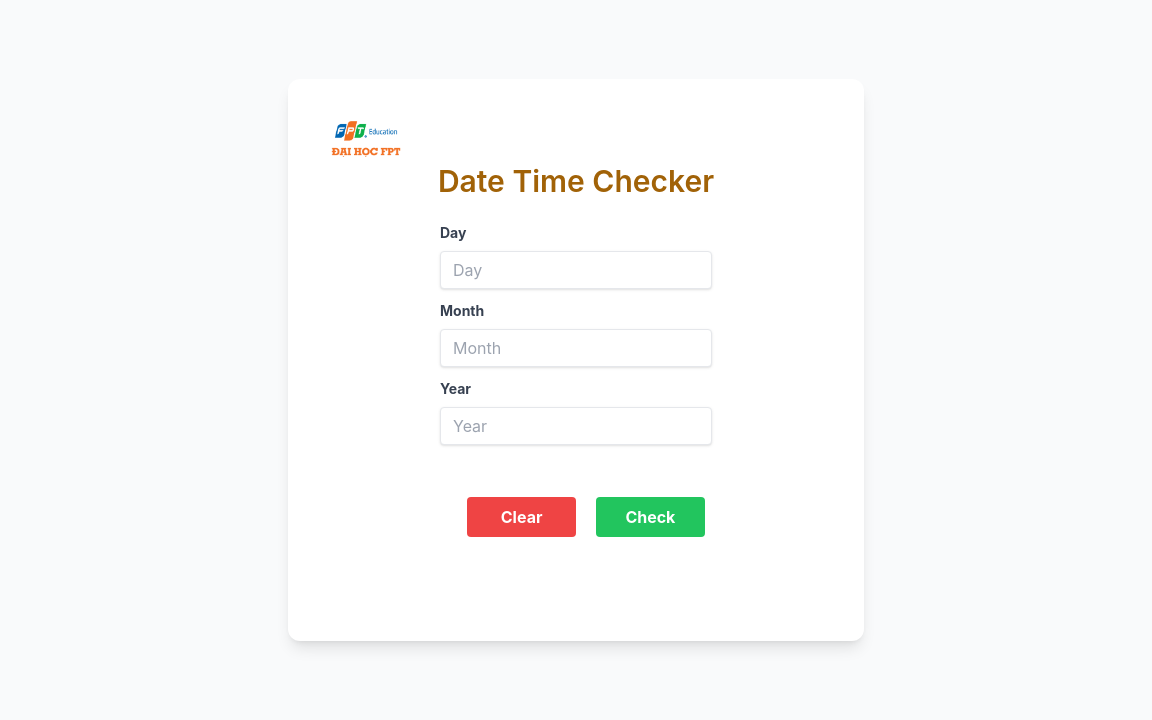
Test: Check function: › should show dialog: 29/2/2021 is NOT a valid date
Type "29" into the field with placeholder "Day" at [576, 270], box left=440, top=251, right=712, bottom=289
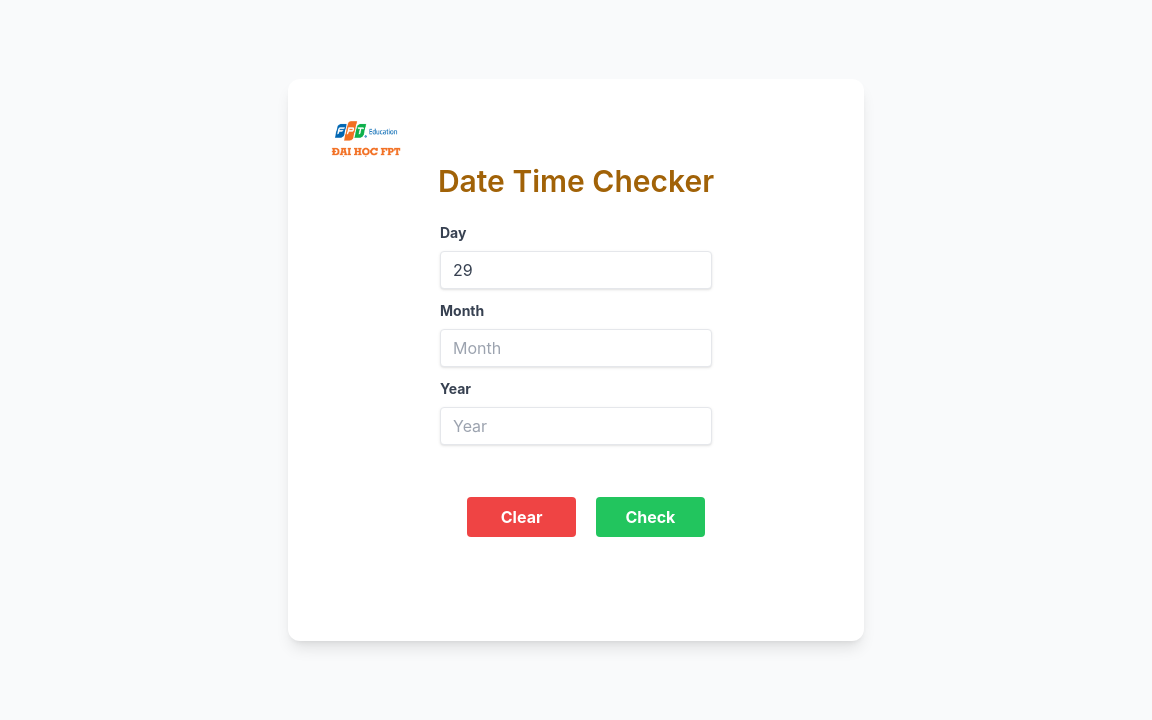
Type "2" into the field with placeholder "Month" at [576, 348], box left=440, top=329, right=712, bottom=367
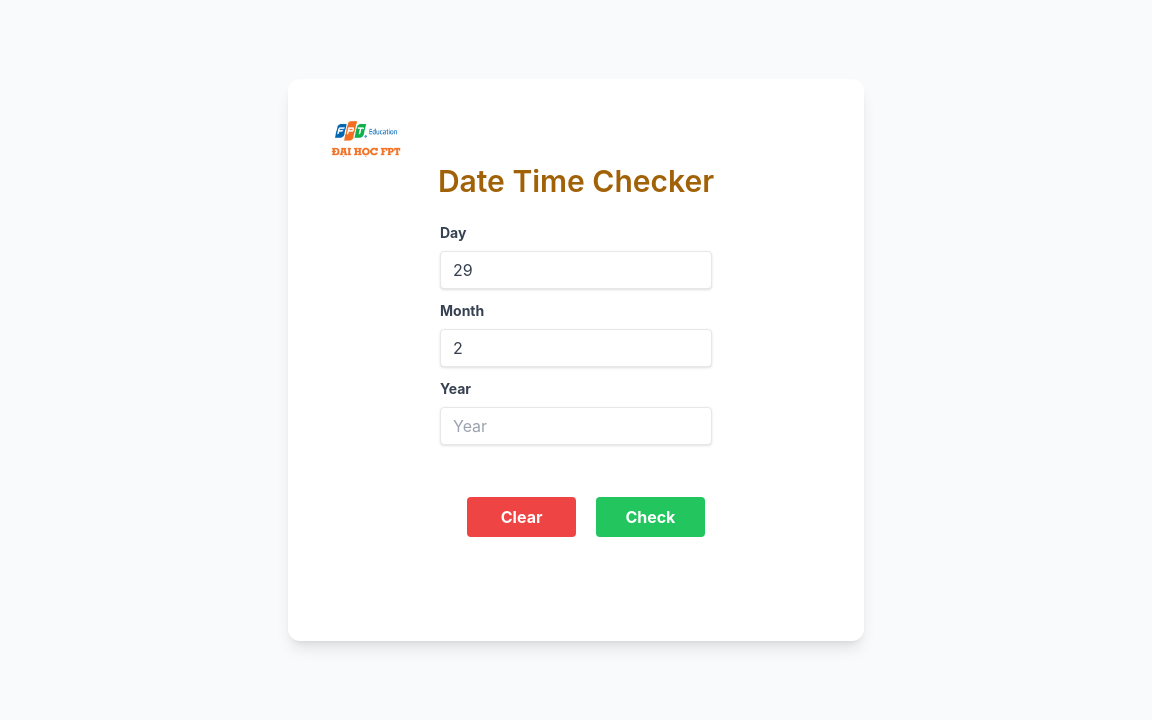
Type "2021" into the field with placeholder "Year" at [576, 426], box left=440, top=407, right=712, bottom=445
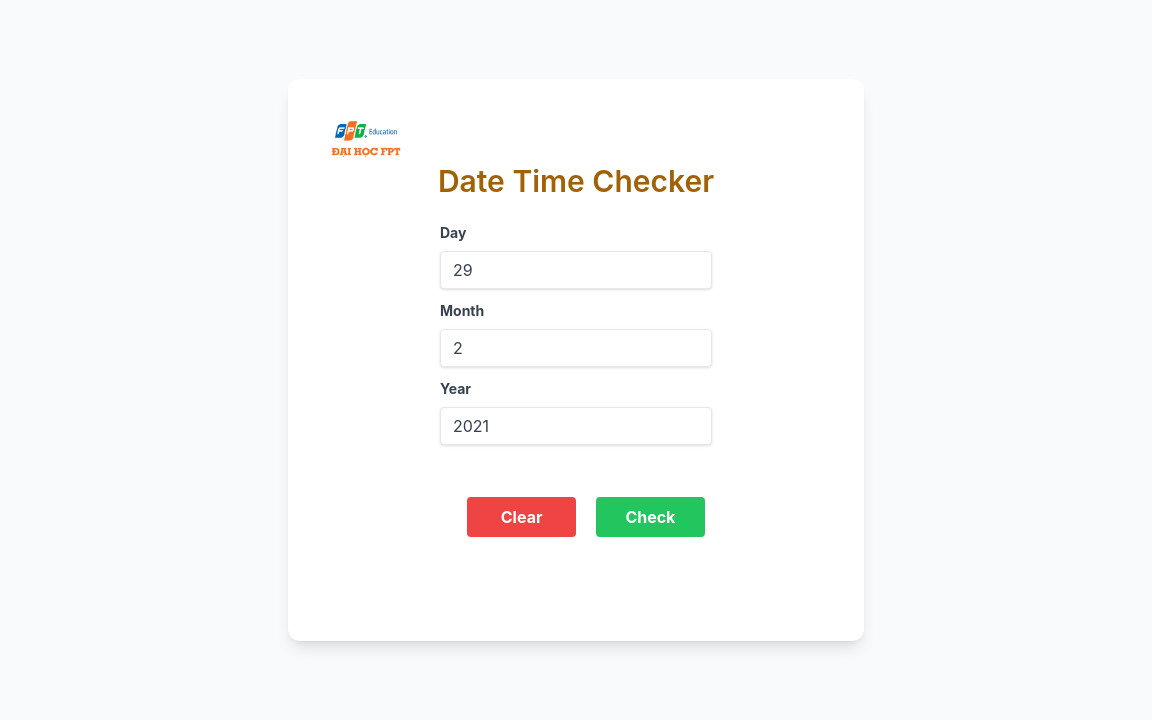
Click the button "Check" at [651, 517], box left=596, top=497, right=705, bottom=537
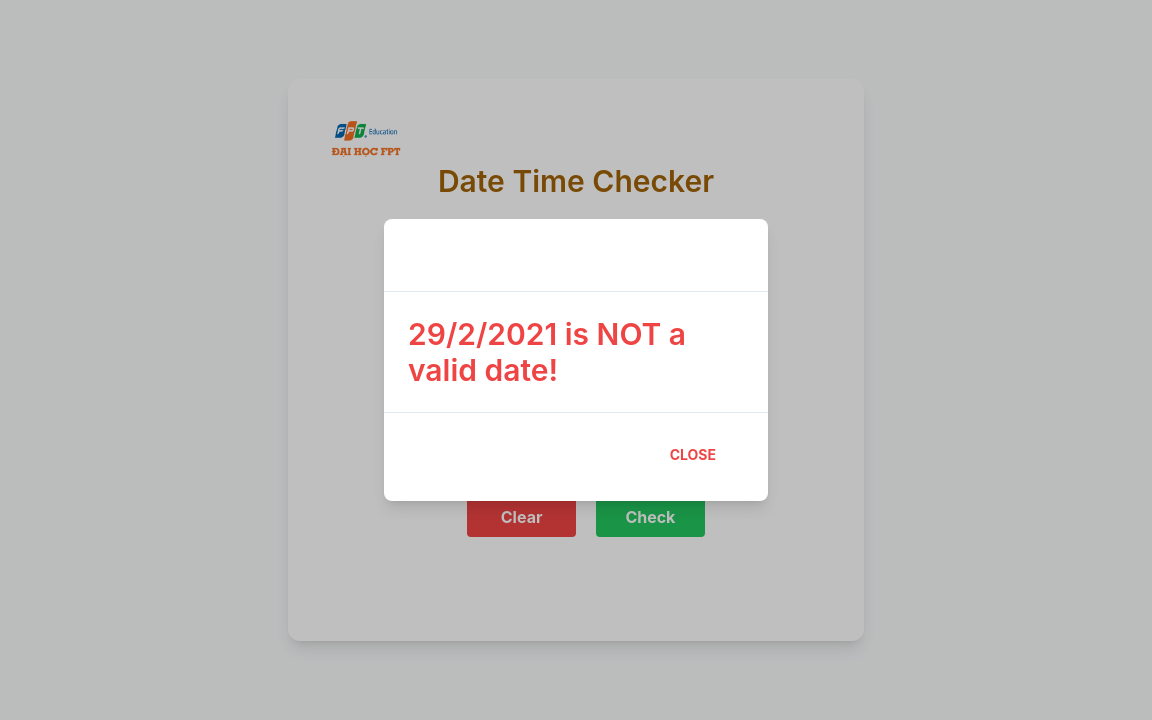
Now the element showing "29/2/2021 is NOT a valid date!" is shown, box left=408, top=316, right=686, bottom=388
